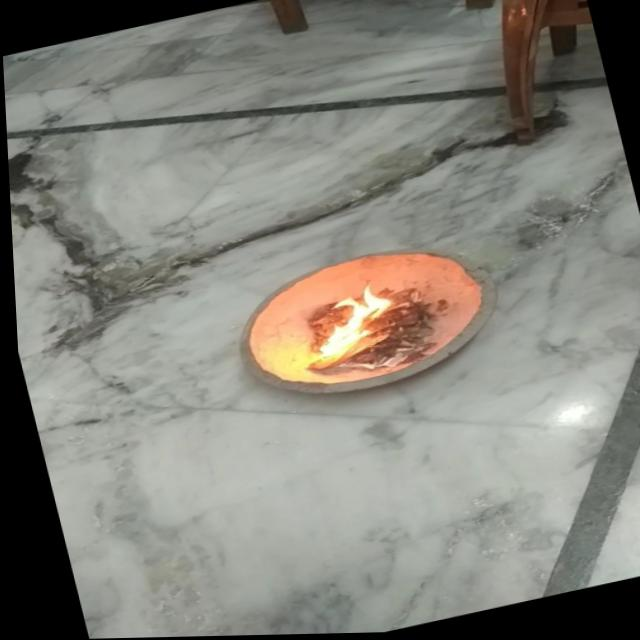fire: (294, 280, 410, 366)
